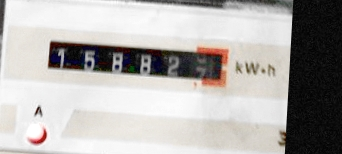1: (53, 45, 68, 67)
2: (164, 53, 181, 78)
5: (81, 46, 96, 72)
7: (194, 61, 207, 79)
8: (137, 51, 152, 76), (109, 50, 123, 73)
screen: (37, 30, 237, 96)
